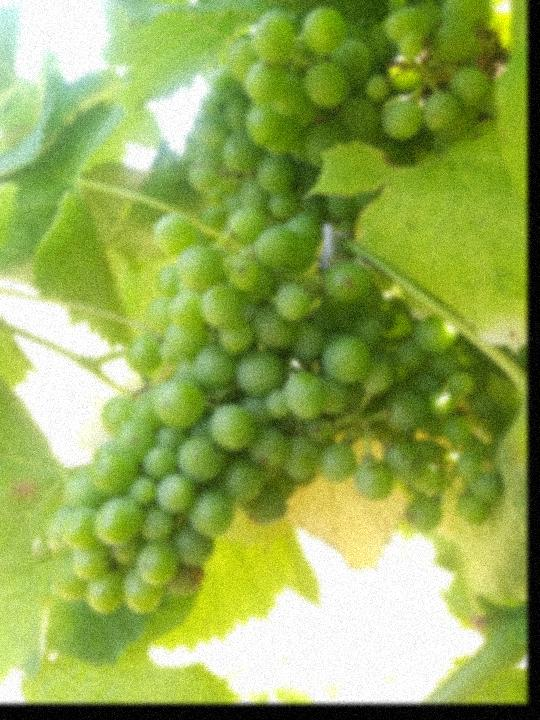grape: (42, 210, 506, 617)
